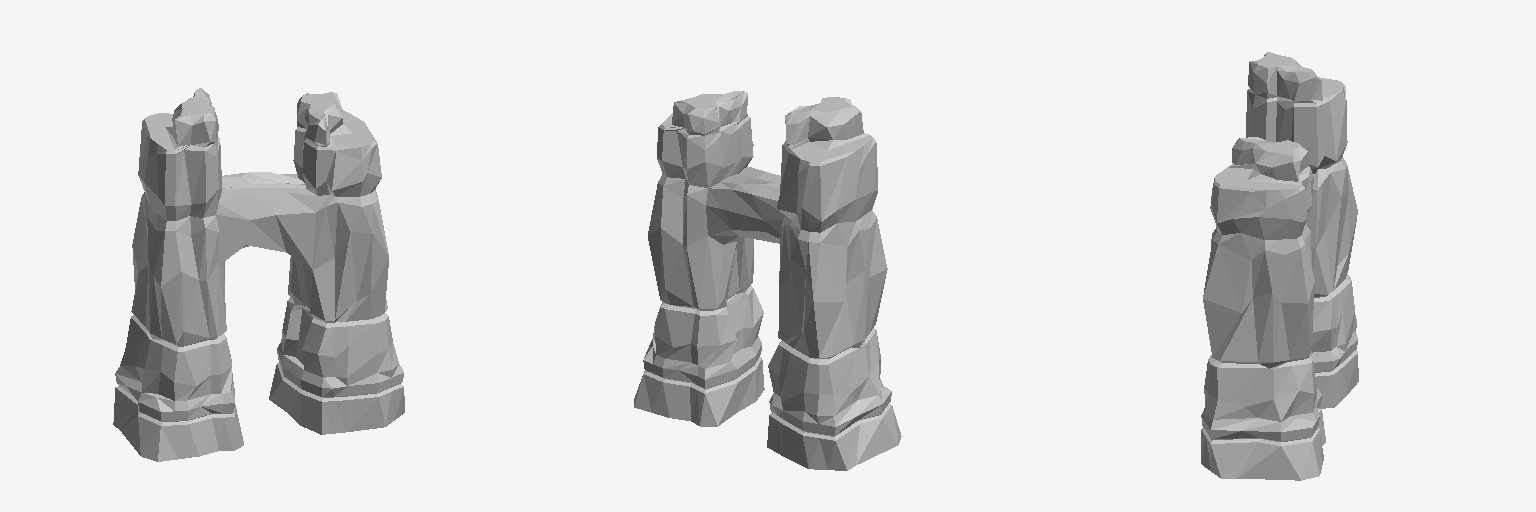
Rendered from rock_bridge.obj.
The picture shows the model from 3 angles: view 1: azimuth 30°, elevation 25°; view 2: azimuth 150°, elevation 25°; view 3: azimuth 270°, elevation 25°; orthographic projection.
Visible parts, largest first — view 1: RockBridge; view 2: RockBridge; view 3: RockBridge.
Boxes of the visible parts, <box> form: RockBridge: <box>113,88,404,461</box>; RockBridge: <box>634,91,901,470</box>; RockBridge: <box>1201,52,1358,480</box>.
Size of the model in its own units: 427 by 547 by 237.